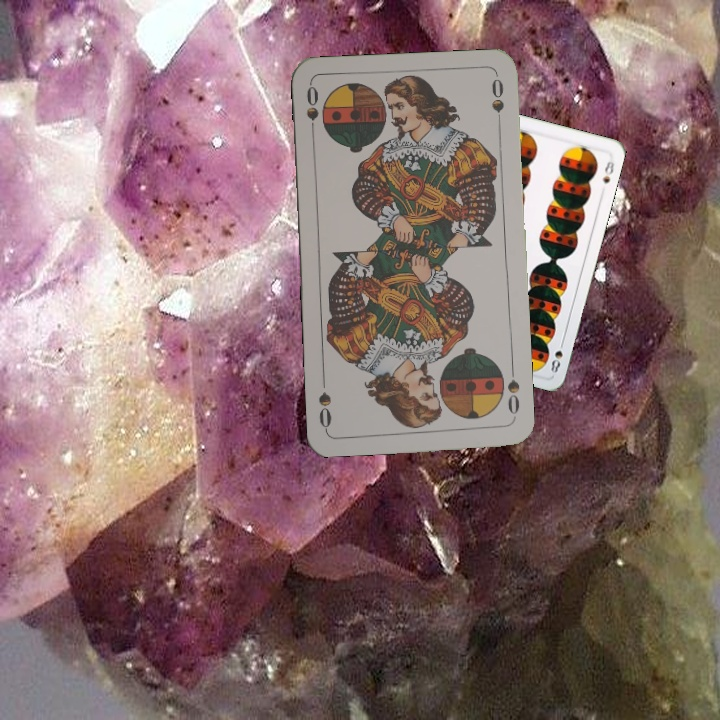S8: (547, 336, 567, 375)
SO: (503, 363, 523, 422), (302, 82, 321, 141)
